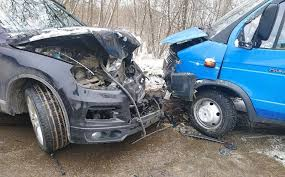car: (5, 2, 165, 142), (154, 11, 279, 137)
